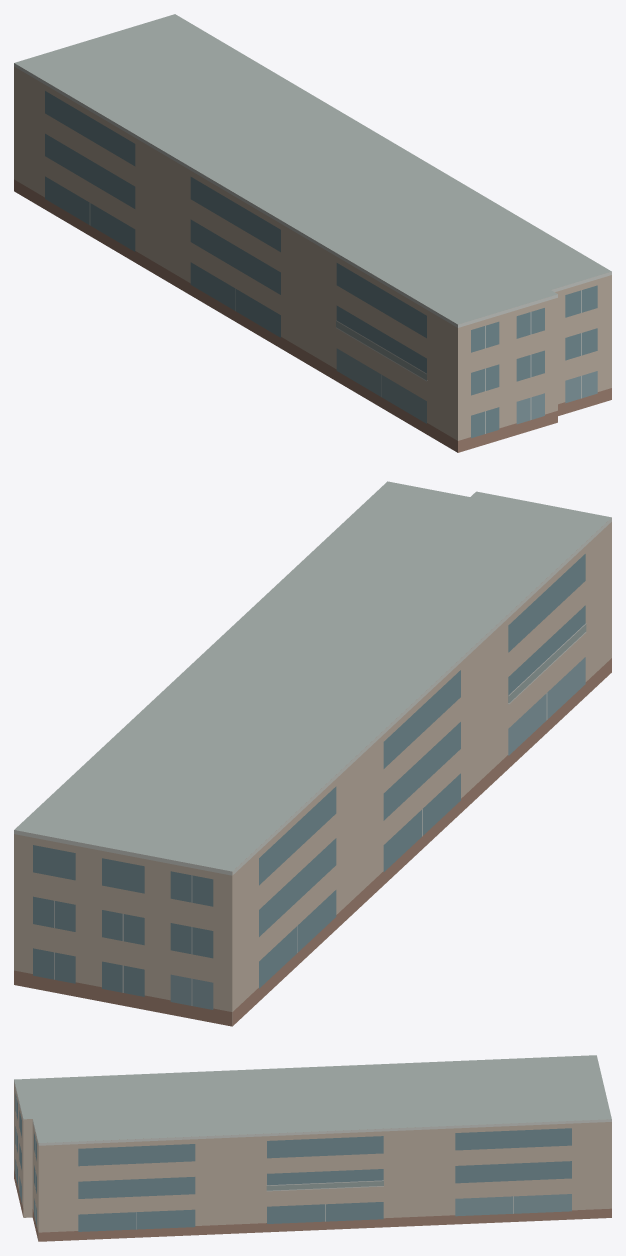
File: survey-upis-32905314.glb
The picture shows the model from 3 angles, top to bottom: view 1: azimuth 30°, elevation 25°; view 2: azimuth 150°, elevation 25°; view 3: azimuth 270°, elevation 25°; orthographic projection. The views are drawn at different scales.
Visible parts, largest first — view 1: survey-upis-32905314.tmp; view 2: survey-upis-32905314.tmp; view 3: survey-upis-32905314.tmp.
Part boxes in pixels (x1,y1,x2,y2): survey-upis-32905314.tmp: (14,14,611,452); survey-upis-32905314.tmp: (14,481,611,1026); survey-upis-32905314.tmp: (14,1055,611,1241).
Bounding box in the file's own units: 17.52 × 9.15 × 50.28.
